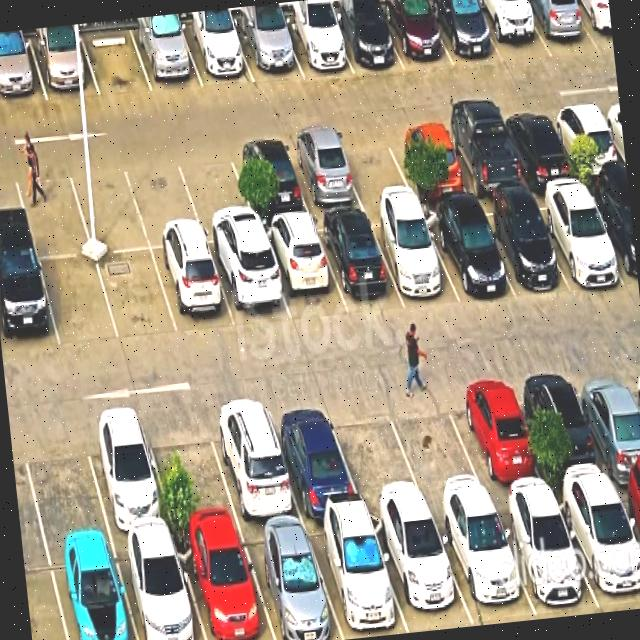empty: (383, 380, 490, 507), (142, 409, 240, 533), (325, 389, 426, 509), (18, 417, 110, 546), (175, 144, 259, 243), (66, 157, 150, 253), (124, 152, 205, 248), (12, 162, 92, 257), (96, 249, 178, 341), (39, 256, 119, 347), (333, 128, 414, 205), (80, 26, 152, 95)
occupied: (430, 500, 536, 624), (492, 494, 599, 616), (304, 514, 408, 639), (369, 510, 473, 632), (204, 396, 302, 525), (447, 373, 548, 498), (238, 523, 343, 640), (518, 366, 613, 491), (265, 396, 362, 518), (80, 412, 174, 537), (174, 528, 274, 640), (553, 484, 640, 612), (529, 185, 626, 287), (113, 534, 205, 640), (420, 203, 515, 303), (473, 197, 567, 296), (259, 218, 347, 323), (314, 212, 403, 313), (367, 208, 460, 304), (47, 540, 136, 640), (570, 362, 640, 483), (152, 244, 235, 335), (208, 240, 291, 327), (440, 115, 526, 196), (228, 139, 310, 221), (283, 133, 364, 213), (387, 122, 470, 196), (498, 107, 577, 184), (0, 255, 59, 354), (548, 102, 625, 177), (583, 181, 638, 286), (378, 0, 453, 71), (328, 3, 404, 73), (179, 20, 254, 87), (427, 0, 503, 66), (473, 0, 551, 64), (130, 22, 202, 91), (28, 31, 99, 100), (279, 12, 353, 77), (233, 16, 302, 81), (521, 0, 599, 57), (0, 36, 47, 105), (572, 0, 613, 51), (613, 479, 640, 550)
